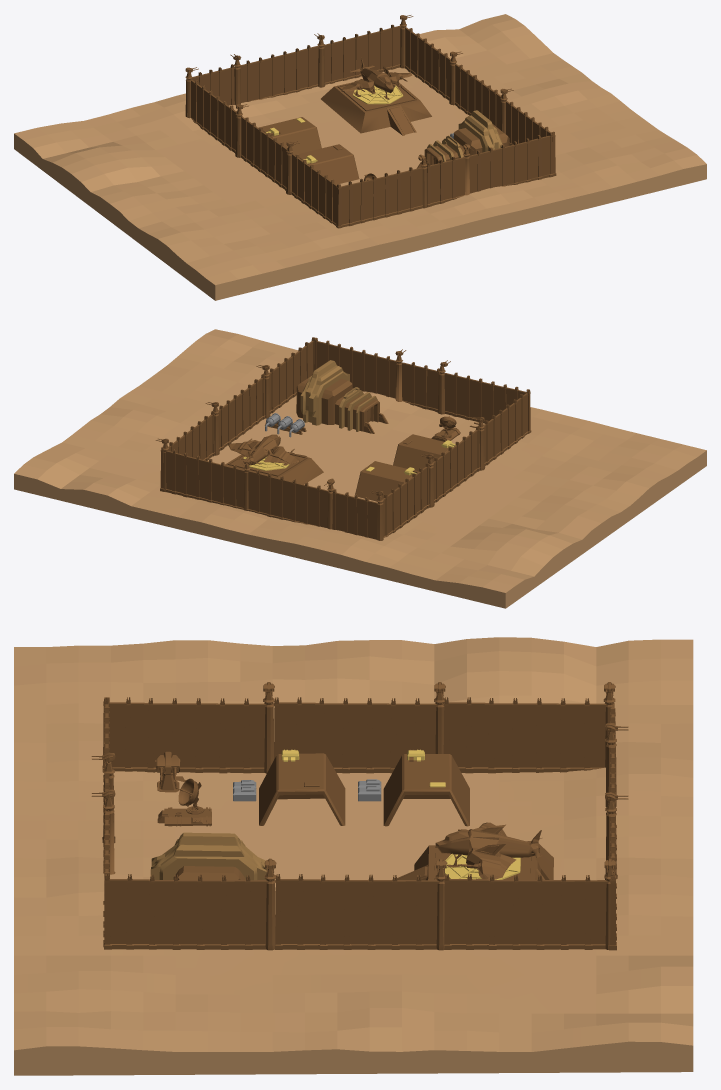
File: lau dai 2.fbx
The picture shows the model from 3 angles, top to bottom: view 1: azimuth 30°, elevation 25°; view 2: azimuth 150°, elevation 25°; view 3: azimuth 270°, elevation 25°; orthographic projection. The views are drawn at different scales.
Parts seen in each view (by area): view 1: Plane.001, stand.011, pCube83, pCube23.001, Hangar_main.001, pCube6, Ship:pCube1, pCylinder1; view 2: Plane.001, stand.011, pCube23.001, pCube6, Hangar_main.001, Ship:pCube1, pCube83, pCylinder5; view 3: Plane.001, stand.011, pCube6, pCube23.001, Hangar_main.001, Ship:pCube1, pCube83, pCylinder5, base.003, pCylinder1.
Part boxes in pixels (x1,y1,x2,y2): Plane.001: (14, 14, 706, 300); stand.011: (185, 15, 556, 228); pCube83: (321, 82, 431, 135); pCube23.001: (417, 110, 509, 168); Hangar_main.001: (295, 144, 359, 184); pCube6: (258, 117, 321, 154); Ship:pCube1: (341, 58, 412, 93); pCylinder1: (353, 85, 403, 104); Plane.001: (14, 329, 706, 608); stand.011: (155, 337, 531, 540); pCube23.001: (296, 360, 388, 433); pCube6: (355, 461, 418, 501); Hangar_main.001: (393, 434, 448, 471); Ship:pCube1: (228, 434, 299, 465); pCube83: (225, 452, 323, 484); pCylinder5: (431, 415, 460, 441); Plane.001: (14, 637, 693, 1075); stand.011: (91, 682, 628, 950); pCube6: (358, 749, 469, 826); pCube23.001: (150, 832, 266, 880); Hangar_main.001: (259, 753, 345, 825); Ship:pCube1: (435, 822, 542, 879); pCube83: (397, 841, 553, 880); pCylinder5: (157, 778, 211, 826); base.003: (155, 751, 186, 792); pCylinder1: (443, 853, 520, 879).
Bounding box in the file's own units: 8341 × 1090 × 6031.
